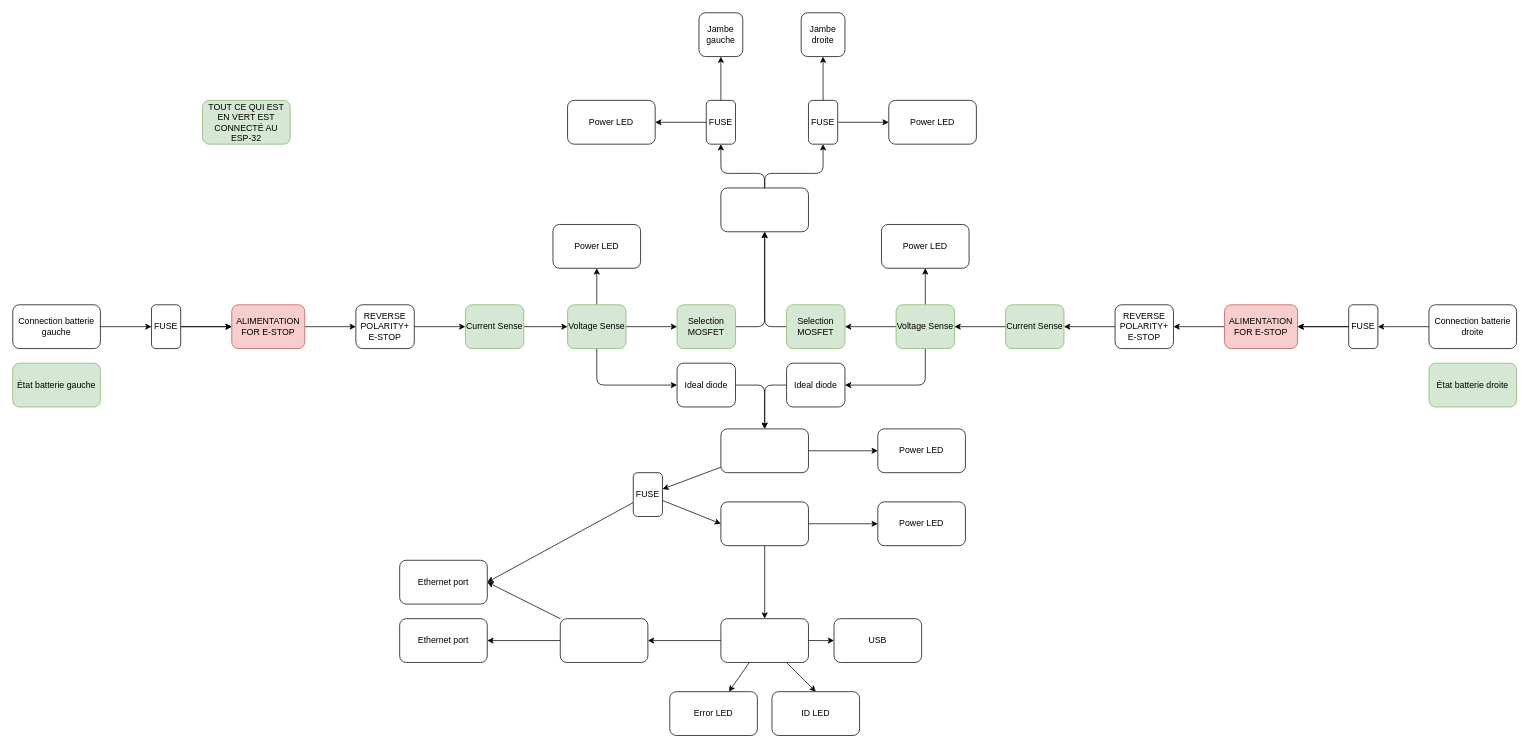
This 1529x748 diagram has some shape labels left out. Each missing label, with the centre of its shape:
"5V to 3.3V" goes at (764,523).
"Alimentation à 48V" goes at (764,209).
"Alimentation à 5V" goes at (764,450).
"CAN" goes at (604,640).
"esp32" goes at (764,640).
